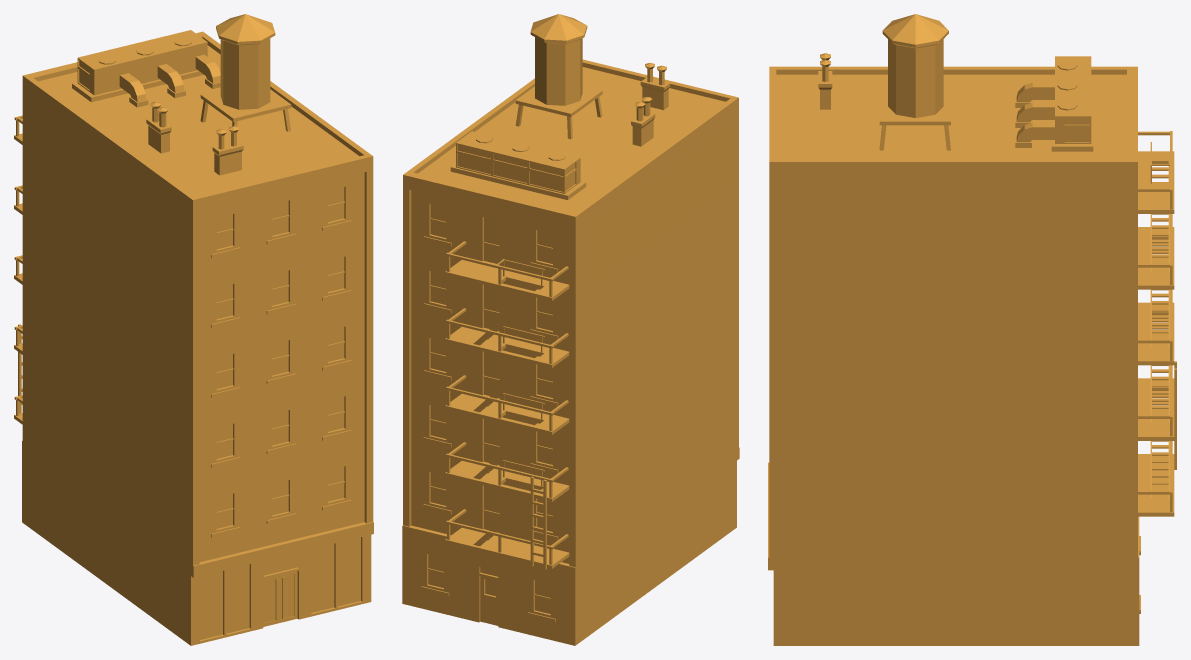
File: building-block-5floor-short.fbx
3 views of the same model, side by side, from view 1: azimuth 30°, elevation 25°; view 2: azimuth 150°, elevation 25°; view 3: azimuth 270°, elevation 25° (orthographic). The views are drawn at different scales.
Visible parts, largest first — view 1: building-block-5floor-short; view 2: building-block-5floor-short; view 3: building-block-5floor-short.
Part boxes in pixels (x1,y1,x2,y2): building-block-5floor-short: (14, 14, 373, 645); building-block-5floor-short: (402, 14, 739, 645); building-block-5floor-short: (768, 14, 1176, 645).
Bounding box in the file's own units: 8.1 × 23.81 × 14.7.
